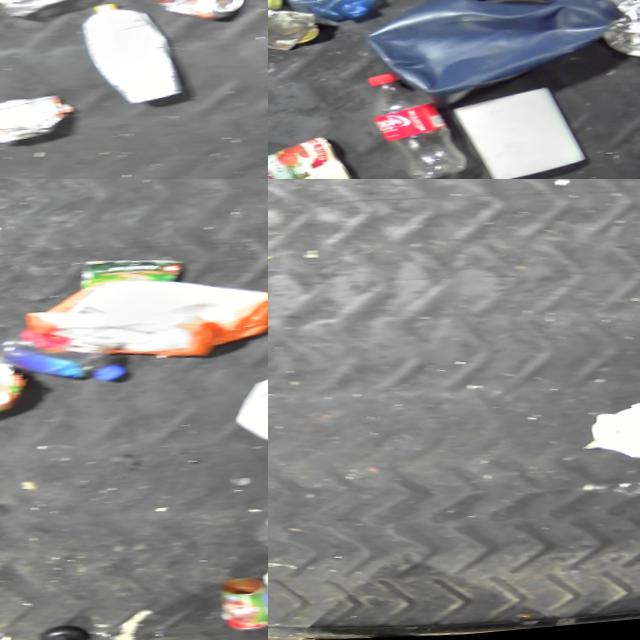can: (0, 90, 73, 152), (268, 132, 362, 179), (137, 0, 252, 33), (268, 1, 320, 63), (219, 578, 268, 639)
non_white_jug: (359, 0, 628, 130)
plastic_bottle: (358, 70, 478, 179), (0, 330, 132, 394)
